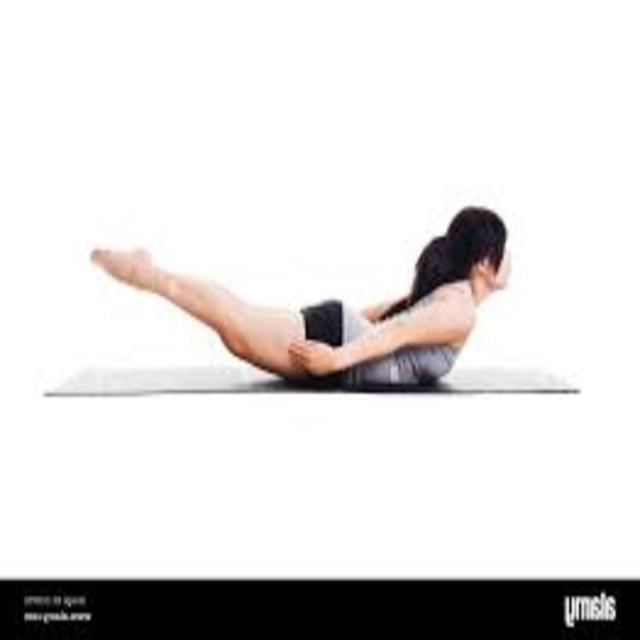Locust_Pose: (90, 201, 512, 390)
